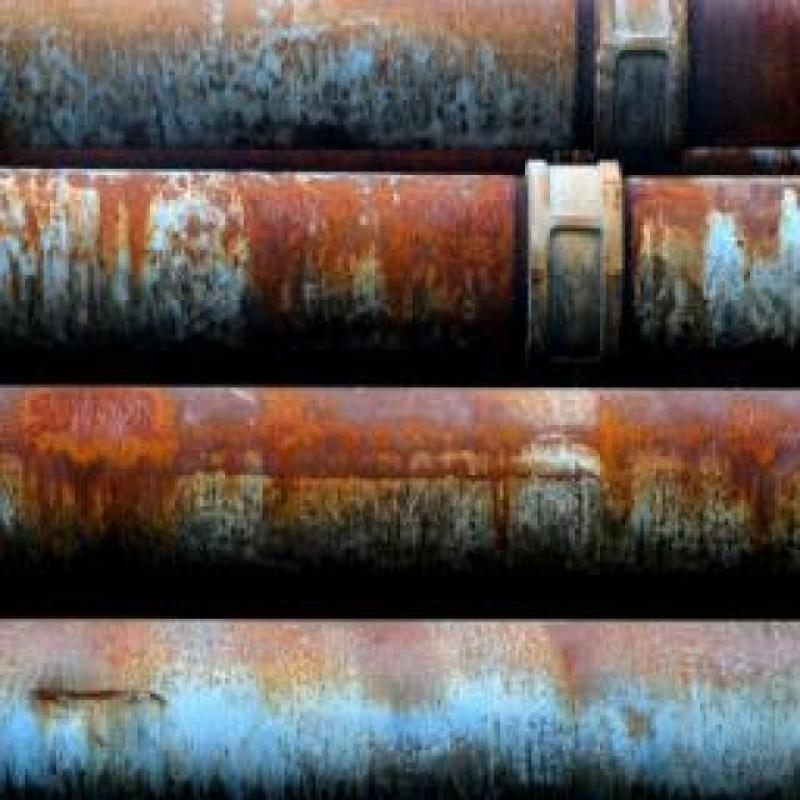corrosion: (0, 156, 794, 366), (1, 384, 799, 570), (24, 22, 782, 137)
